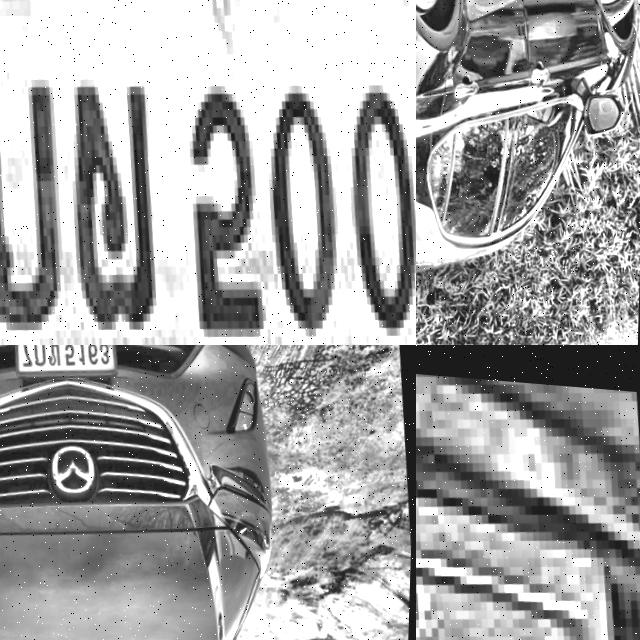license-plate: (0, 0, 416, 345), (416, 345, 640, 640), (5, 345, 126, 385)
